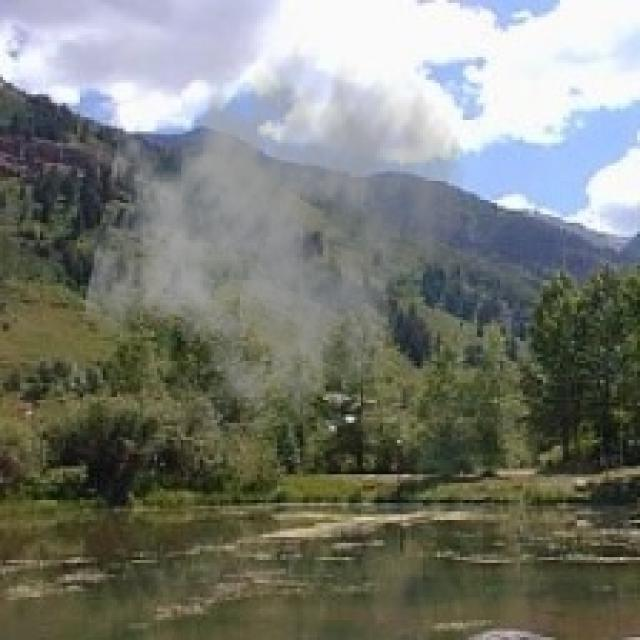Smoke: (80, 26, 469, 432)
